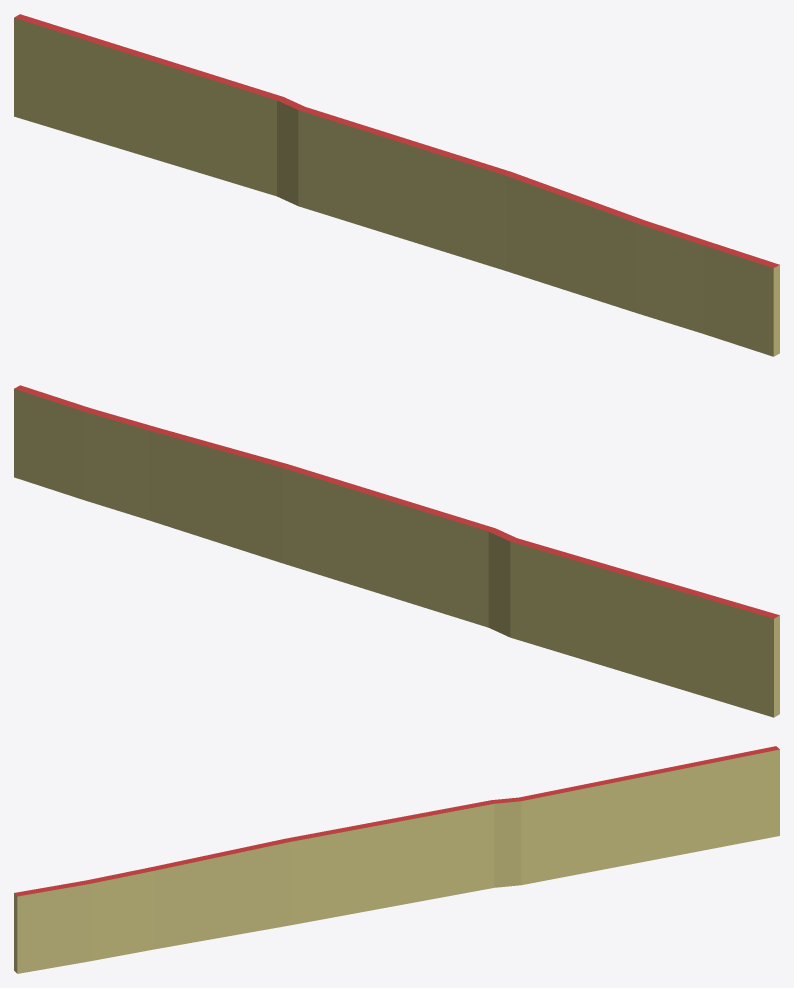
3 renders of one model, top to bottom at view 1: azimuth 30°, elevation 25°; view 2: azimuth 210°, elevation 25°; view 3: azimuth 270°, elevation 25°, orthographic. The views are drawn at different scales.
Size of the model in its own units: 22.04 by 50.41 by 6.28.
